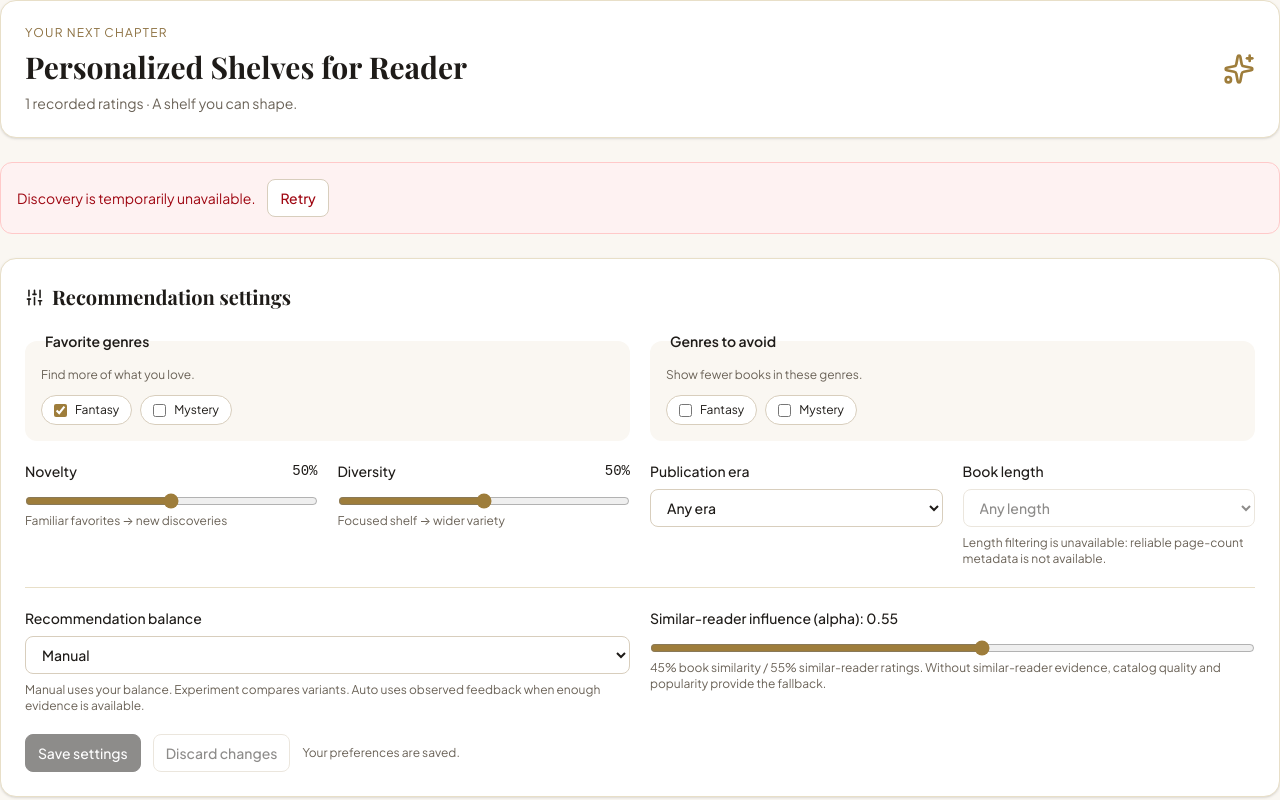
personalized discovery › shows service failures with a retry and an honest empty state
The width and height of the screenshot is (1280, 800).
Expected: the message shows "Discovery is temporarily unavailable.", [17,189,255,207]
Click the button "Retry" at [298, 198], box [267,179,329,217]
(page scrolled)
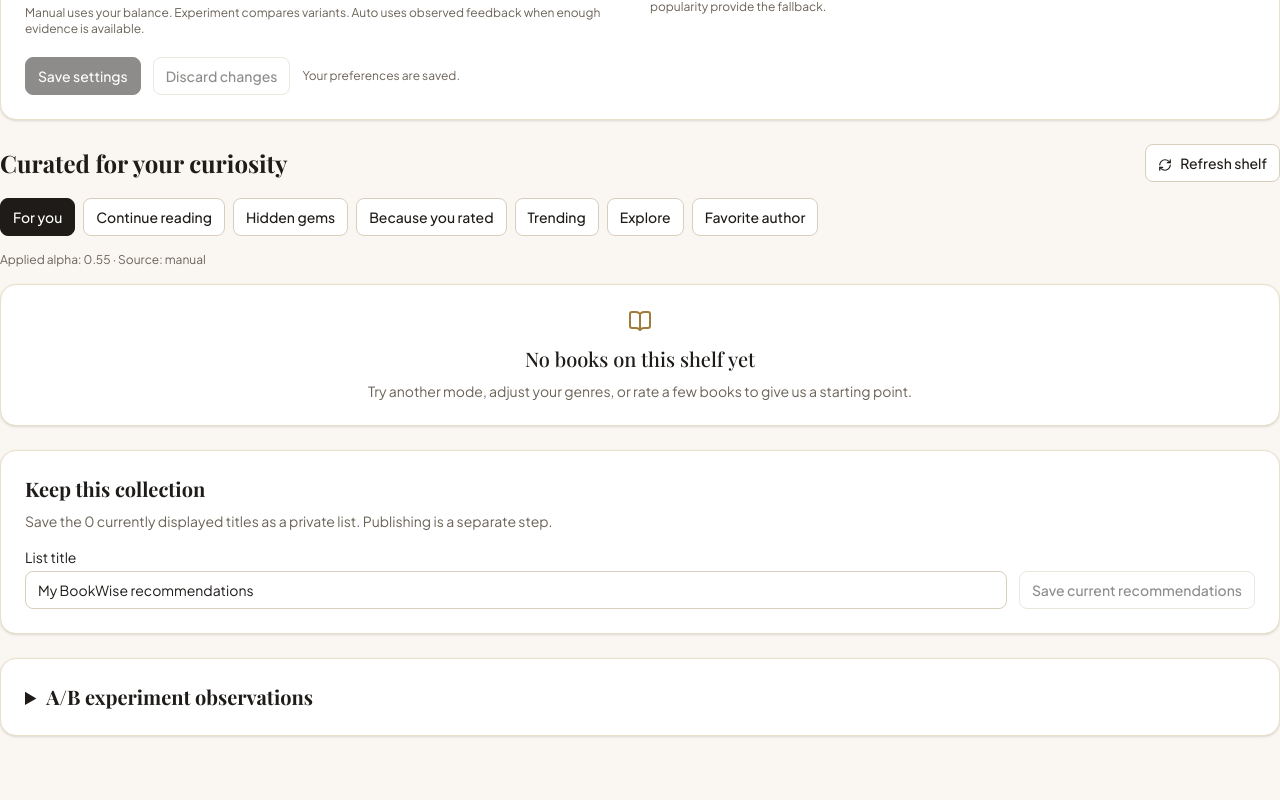
Expected: the button "Save current recommendations" is disabled, [1019,571,1255,609]
Expected: the heading "No books on this shelf yet" is shown, [525,345,755,372]
